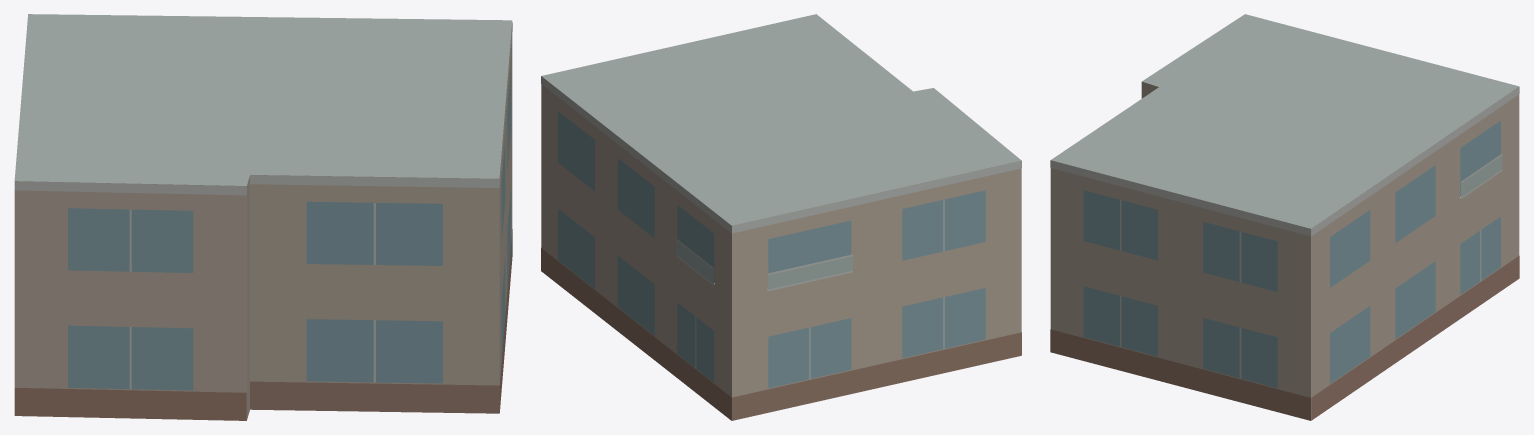
Rendered from survey-upis-32662131.glb.
3 renders of one model, left to right at view 1: azimuth 30°, elevation 25°; view 2: azimuth 150°, elevation 25°; view 3: azimuth 270°, elevation 25°, orthographic. The views are drawn at different scales.
Visible parts, largest first — view 1: survey-upis-32662131.tmp; view 2: survey-upis-32662131.tmp; view 3: survey-upis-32662131.tmp.
Boxes of the visible parts, left/top/right/bottom form: survey-upis-32662131.tmp: left=14, top=14, right=512, bottom=420; survey-upis-32662131.tmp: left=541, top=14, right=1021, bottom=420; survey-upis-32662131.tmp: left=1050, top=14, right=1519, bottom=420.
Bounding box in the file's own units: 14.64 × 6.1 × 13.51.
